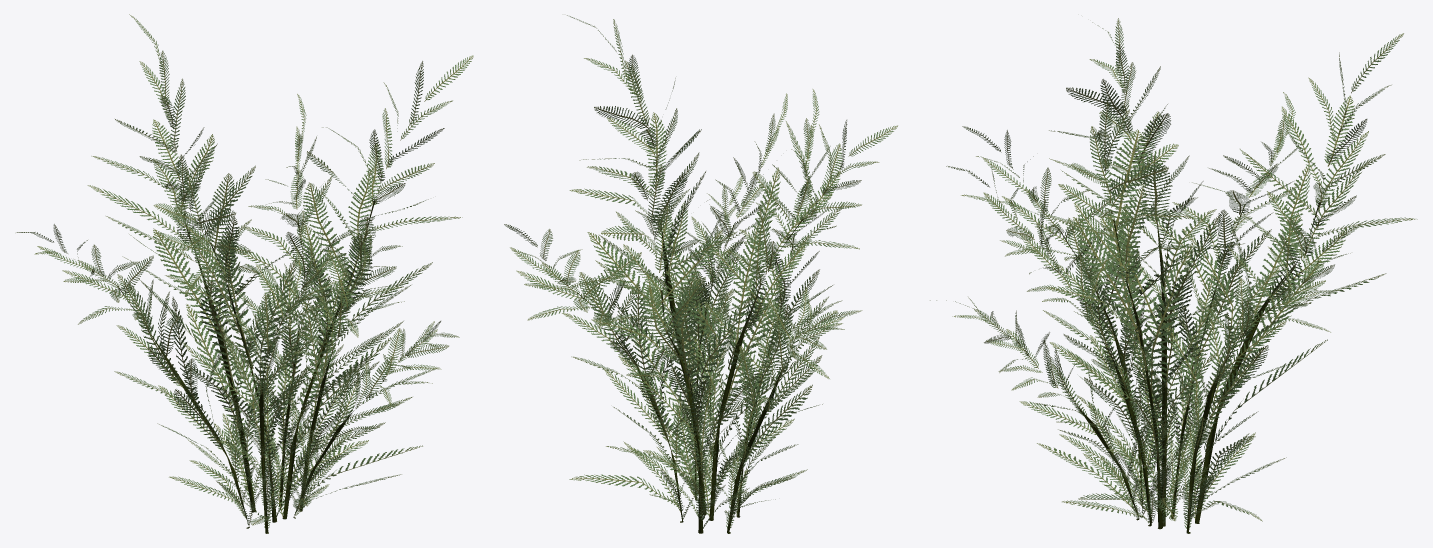
Rendered from Herbs.fbx.
The picture shows the model from 3 angles, left to right: view 1: azimuth 30°, elevation 25°; view 2: azimuth 150°, elevation 25°; view 3: azimuth 270°, elevation 25°; orthographic projection. The views are drawn at different scales.
Parts seen in each view (by area): view 1: SM_GreenHerb_T_GreenHerb_0; view 2: SM_GreenHerb_T_GreenHerb_0; view 3: SM_GreenHerb_T_GreenHerb_0.
Boxes of the visible parts, x1,y1,x2,y2 form: SM_GreenHerb_T_GreenHerb_0: (16, 14, 473, 533); SM_GreenHerb_T_GreenHerb_0: (504, 15, 897, 533); SM_GreenHerb_T_GreenHerb_0: (930, 18, 1417, 533).
Size of the model in its own units: 304 by 347 by 312.
Materials: 1 (1 with a texture image).
